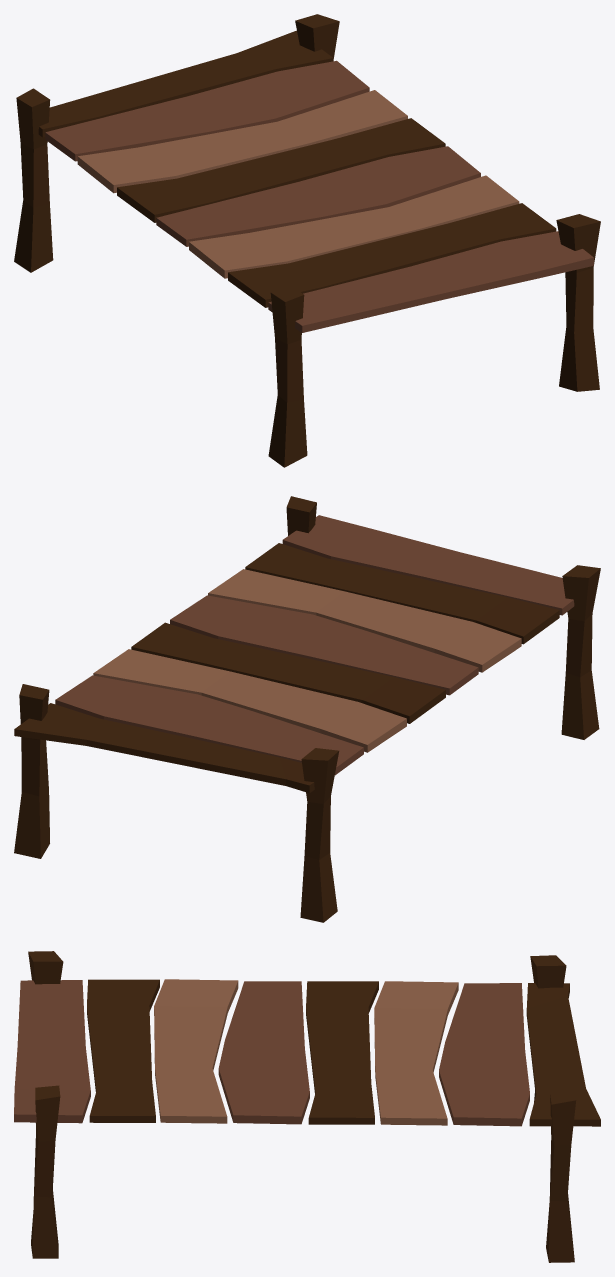
File: paseoMaderaCorto.fbx
3 renders of one model, top to bottom at view 1: azimuth 30°, elevation 25°; view 2: azimuth 150°, elevation 25°; view 3: azimuth 270°, elevation 25°, orthographic. The views are drawn at different scales.
Visible parts, largest first — view 1: Cube.2150, Cube.2147, Cube.2144, Cube.2149, Cube.2146, Cube.2148, Cube.2145, Cube.2152, Cube.2190, Cube.2188, Cube.2187, Cube.2189; view 2: Cube.2147, Cube.2150, Cube.2146, Cube.2149, Cube.2144, Cube.2148, Cube.2145, Cube.2152, Cube.2188, Cube.2190, Cube.2189, Cube.2187; view 3: Cube.2147, Cube.2150, Cube.2146, Cube.2149, Cube.2145, Cube.2148, Cube.2144, Cube.2152, Cube.2189, Cube.2187, Cube.2190, Cube.2188.
Part boxes in pixels (x1,y1,x2,y2): Cube.2150: (45, 60, 369, 161); Cube.2147: (156, 146, 480, 246); Cube.2144: (268, 231, 593, 332); Cube.2149: (77, 90, 407, 193); Cube.2146: (189, 175, 519, 278); Cube.2148: (117, 118, 445, 222); Cube.2145: (228, 203, 556, 307); Cube.2152: (38, 30, 333, 137); Cube.2190: (14, 88, 53, 272); Cube.2188: (268, 283, 307, 467); Cube.2187: (556, 214, 600, 391); Cube.2189: (295, 14, 339, 58); Cube.2147: (170, 595, 478, 695); Cube.2150: (55, 675, 363, 775); Cube.2146: (208, 569, 521, 672); Cube.2149: (93, 649, 406, 752); Cube.2144: (282, 515, 574, 615); Cube.2148: (131, 622, 445, 723); Cube.2145: (245, 543, 559, 644); Cube.2152: (14, 703, 314, 793); Cube.2188: (561, 565, 600, 739); Cube.2190: (300, 748, 339, 922); Cube.2189: (14, 684, 49, 858); Cube.2187: (286, 496, 316, 535); Cube.2147: (218, 981, 309, 1124); Cube.2150: (439, 983, 529, 1126); Cube.2146: (154, 979, 238, 1123); Cube.2149: (374, 981, 458, 1125); Cube.2145: (87, 979, 159, 1122); Cube.2148: (306, 981, 378, 1124); Cube.2144: (14, 980, 90, 1123); Cube.2152: (526, 983, 600, 1126); Cube.2189: (546, 1089, 576, 1262); Cube.2187: (31, 1085, 60, 1258); Cube.2190: (530, 955, 566, 1102); Cube.2188: (28, 951, 63, 984).
Bounding box in the file's own units: 2153 × 1041 × 3478.
